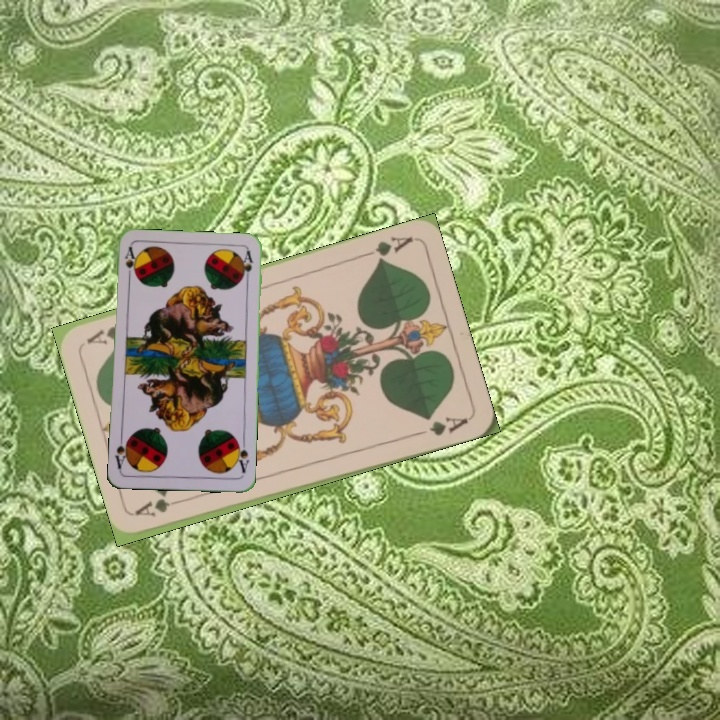GA: (358, 232, 416, 266), (132, 494, 191, 520)
SA: (232, 436, 252, 476), (121, 243, 138, 284)
